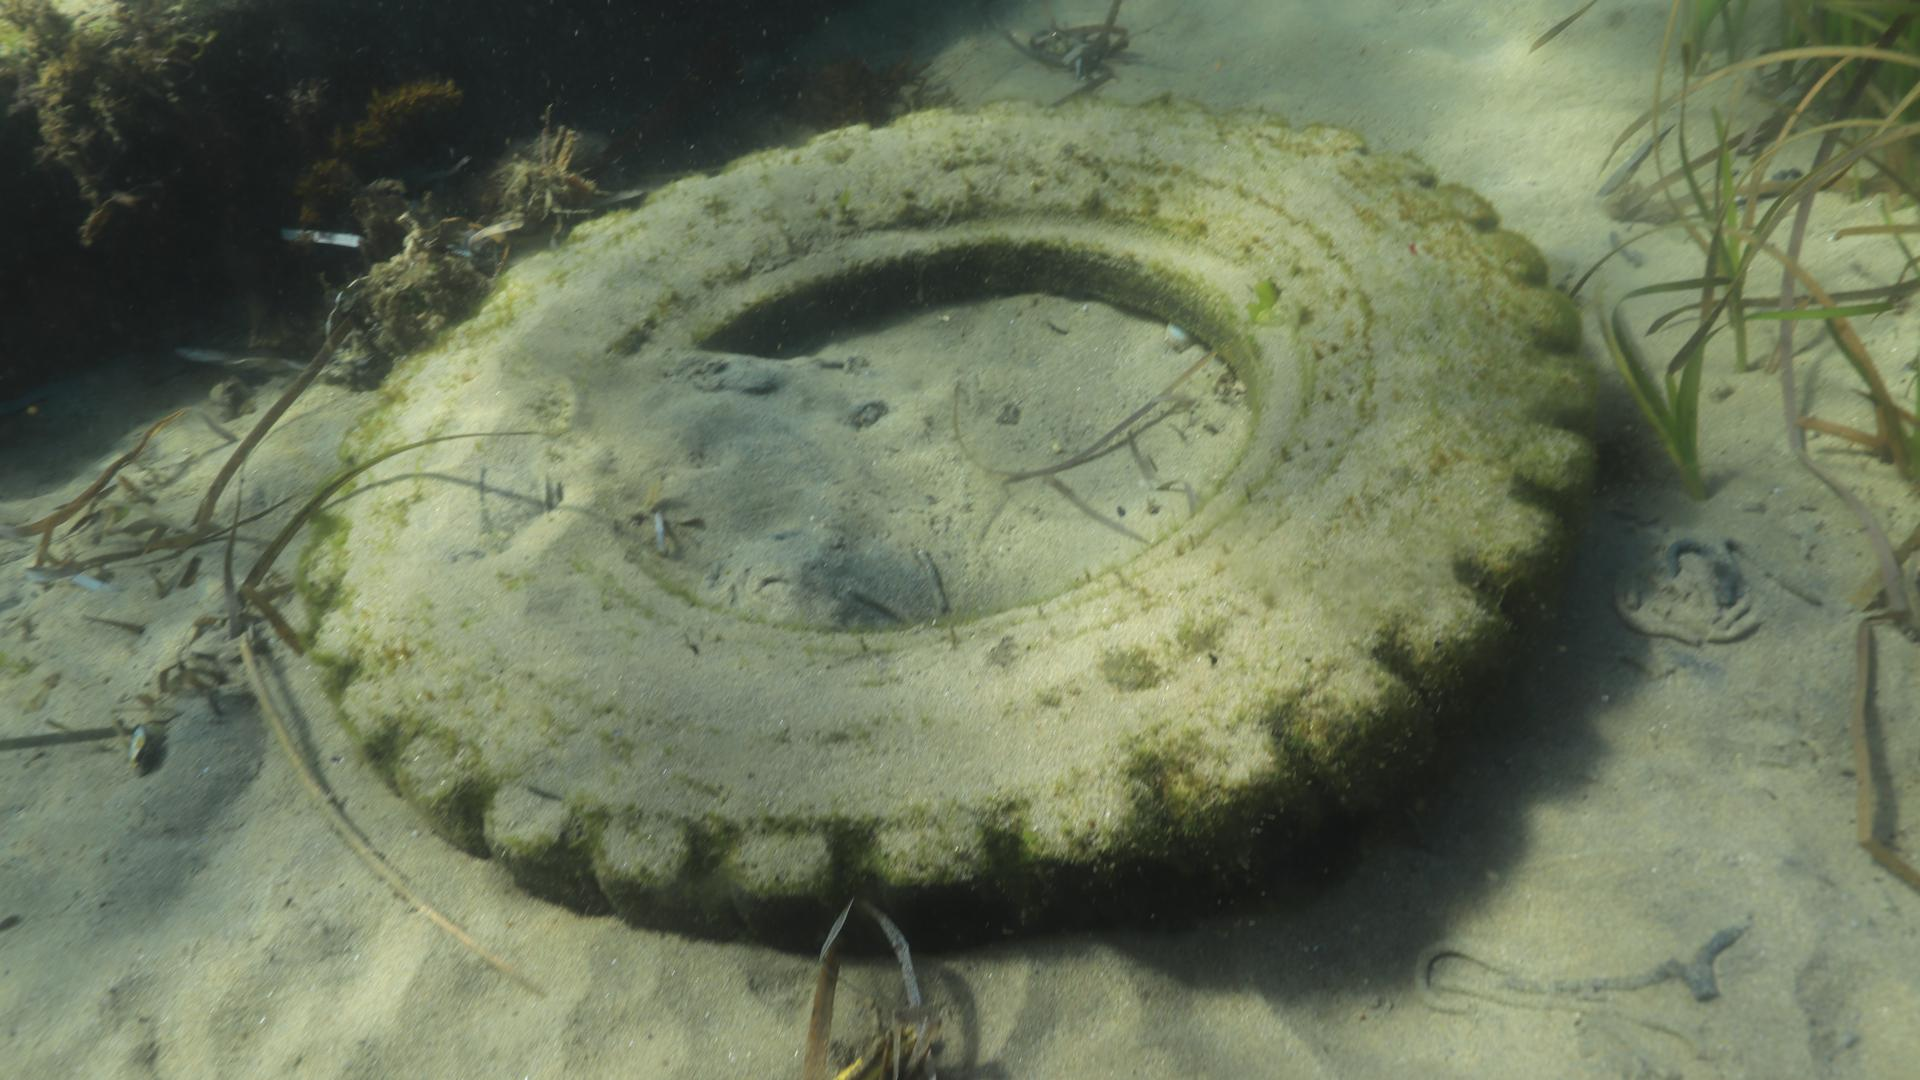tire: (301, 95, 1604, 949)
